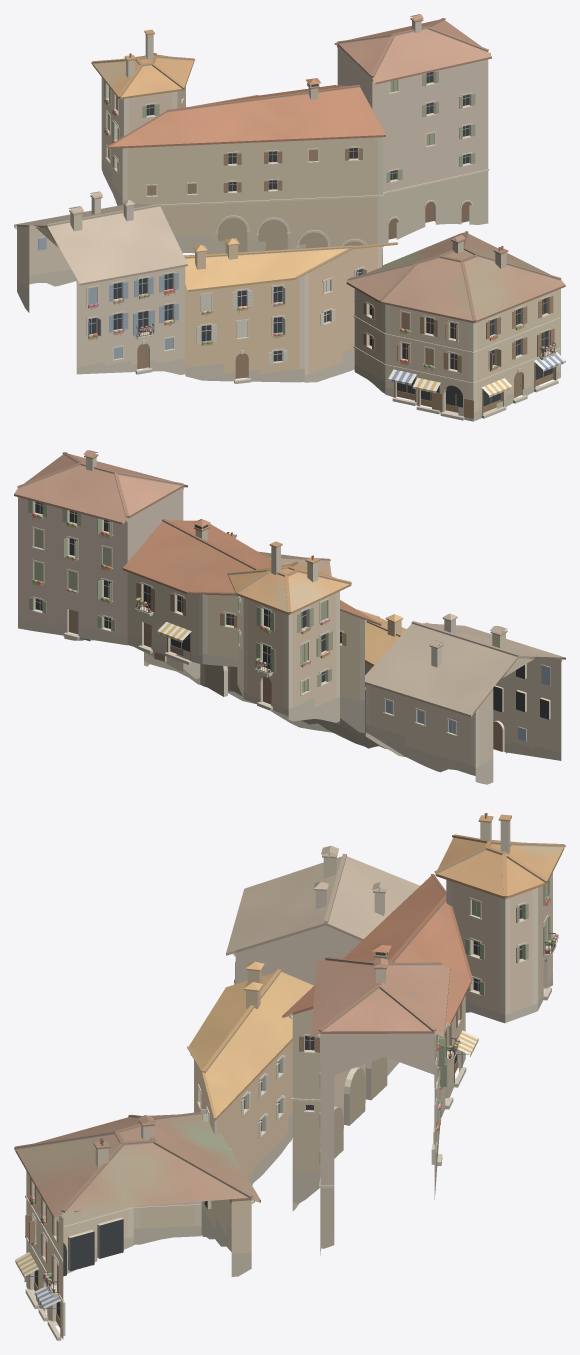
The model's file is SM_BM_BT_blk_04.glb.
The picture shows the model from 3 angles, top to bottom: view 1: azimuth 30°, elevation 25°; view 2: azimuth 150°, elevation 25°; view 3: azimuth 270°, elevation 25°; orthographic projection. The views are drawn at different scales.
Parts seen in each view (by area): view 1: SM_BM_BT_blk_04; view 2: SM_BM_BT_blk_04; view 3: SM_BM_BT_blk_04.
Boxes of the visible parts, <box> form: SM_BM_BT_blk_04: <box>14,14,565,421</box>; SM_BM_BT_blk_04: <box>14,450,565,784</box>; SM_BM_BT_blk_04: <box>14,813,565,1340</box>.
Size of the model in its own units: 47.92 by 30.23 by 39.84.
